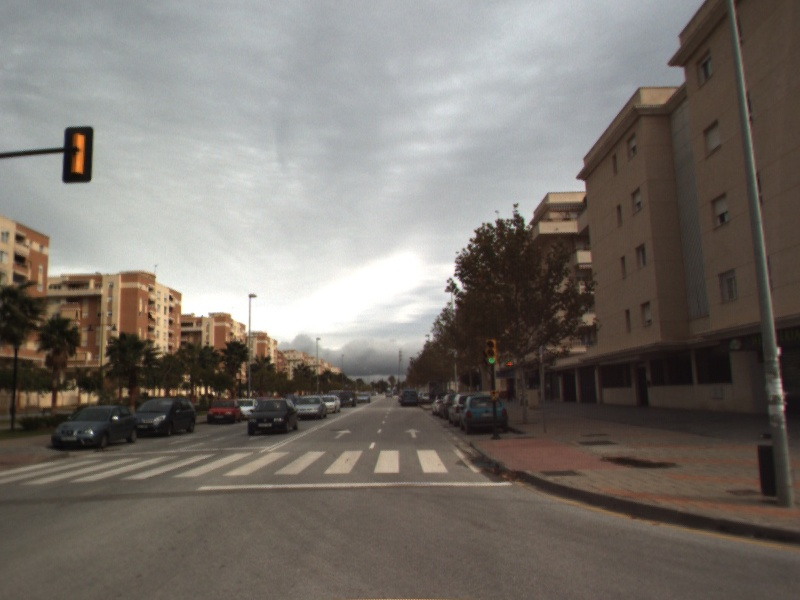STRAIGHT: (332, 427, 354, 440), (403, 426, 423, 440)
